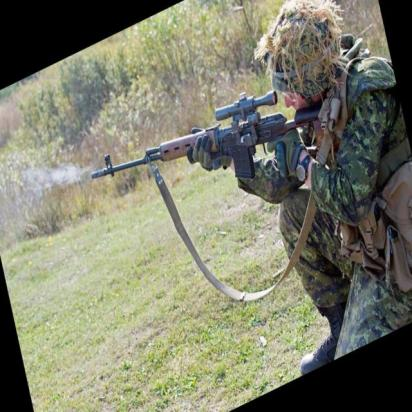Gun: (86, 55, 335, 259)
